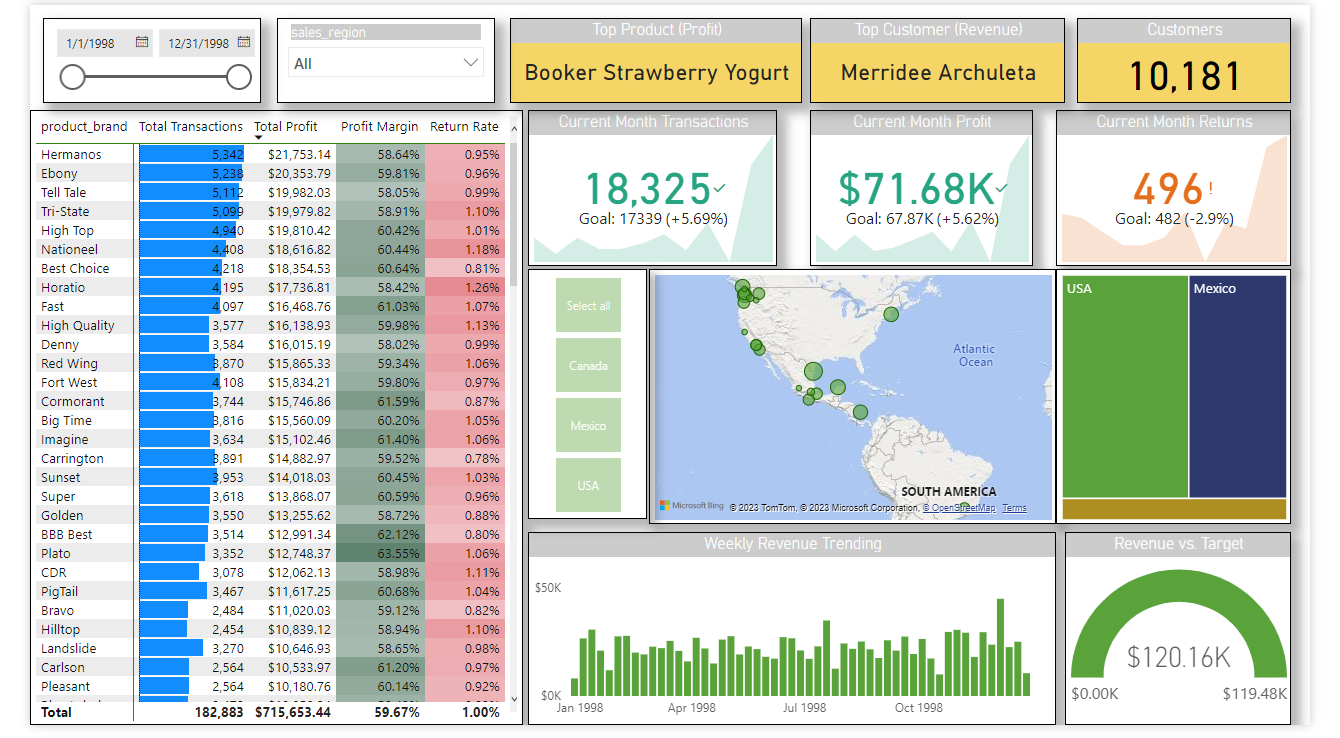

The page's visual inventory and layout, read from the dashboard file:
{"tool":"powerbi","page":{"name":"Topline Performance","canvas":[1280,720],"ordinal":0},"visuals":[{"type":"pivotTable","fields":{"Rows":["Products.product_brand"],"Values":["Transaction_Data.Total Transactions","Transaction_Data.Total Profit","Transaction_Data.Profit Margin","Returns_Data.Return Rate"]},"box":[0,105,493,615],"z":0},{"type":"kpi","title":"Current Month Transactions","fields":{"Indicator":["Transaction_Data.Total Transactions"],"TrendLine":["Calendar.Start of Month"],"Goal":["Transaction_Data.Last Month Transactions"]},"box":[498,105,249,156],"z":1000},{"type":"kpi","title":"Current Month Profit","fields":{"TrendLine":["Calendar.Start of Month"],"Indicator":["Transaction_Data.Total Profit"],"Goal":["Transaction_Data.Last Month Profit"]},"box":[780,105,223,156],"z":2000},{"type":"kpi","title":"Current Month Returns","fields":{"TrendLine":["Calendar.Start of Month"],"Indicator":["Returns_Data.Total Returns"],"Goal":["Returns_Data.Last Month Returns"]},"box":[1026,105,235,156],"z":3000},{"type":"map","fields":{"Size":["Transaction_Data.Total Transactions"],"Category":["Stores.store_city"]},"box":[619,264,407,255],"z":4000},{"type":"treemap","fields":{"Values":["Transaction_Data.Total Transactions"],"Group":["Stores.store_country","Stores.store_state","Stores.store_city"]},"box":[1026,264,235,255],"z":5000},{"type":"columnChart","title":"Weekly Revenue Trending","fields":{"Y":["Transaction_Data.Total Revenue"],"Category":["Calendar.Start of Week"]},"box":[498,527,528,193],"z":6000},{"type":"gauge","title":"Revenue vs. Target","fields":{"Y":["Transaction_Data.Total Revenue"],"MaxValue":["Transaction_Data.Revenue Target"]},"box":[1035,527,226,193],"z":7000},{"type":"card","title":"Top Product (Profit)","fields":{"Values":["Products.product_name"]},"box":[480,13,292,85],"z":8000},{"type":"card","title":"Top Customer (Revenue)","fields":{"Values":["Customers.Full_Name"]},"box":[780,13,255,85],"z":9000},{"type":"card","title":"Customers","fields":{"Values":["Customers.No of Customers"]},"box":[1047,13,214,85],"z":10000},{"type":"slicer","fields":{"Values":["Customers.customer_country"]},"box":[498,264,119,250],"z":11000},{"type":"slicer","fields":{"Values":["Regions.sales_region"]},"box":[247,13,218,85],"z":12000},{"type":"slicer","fields":{"Values":["Calendar.date"]},"box":[13,13,218,85],"z":13000}]}

Visuals, with their boxes in screenshot pixels (x1, y1, x2, y2), scaled from the page's 1280x720 canvas onto the 1340x738 screenshot:
pivotTable - Products.product_brand x Transaction_Data.Total Transactions: 0/108/516/737
"Current Month Transactions" kpi: 521/108/782/268
"Current Month Profit" kpi: 817/108/1050/268
"Current Month Returns" kpi: 1074/108/1320/268
map - Transaction_Data.Total Transactions x Stores.store_city: 648/271/1074/532
treemap - Transaction_Data.Total Transactions x Stores.store_country: 1074/271/1320/532
"Weekly Revenue Trending" columnChart: 521/540/1074/737
"Revenue vs. Target" gauge: 1084/540/1320/737
"Top Product (Profit)" card: 502/13/808/100
"Top Customer (Revenue)" card: 817/13/1084/100
"Customers" card: 1096/13/1320/100
slicer - Customers.customer_country: 521/271/646/527
slicer - Regions.sales_region: 259/13/487/100
slicer - Calendar.date: 14/13/242/100
